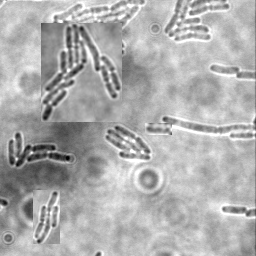Dividing: (161, 114, 255, 133), (221, 204, 248, 215)
Microcolony: (41, 23, 122, 122), (51, 1, 147, 56), (162, 1, 231, 44), (8, 130, 72, 167), (106, 124, 153, 160), (33, 190, 60, 244), (208, 63, 240, 74)
Rod: (145, 123, 172, 135)
